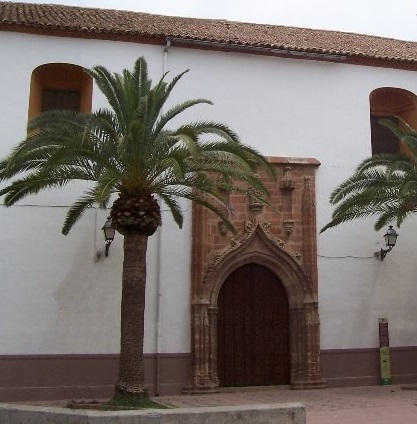arco-apuntado: (212, 260, 295, 313)
arco-conopial: (212, 222, 298, 260)
